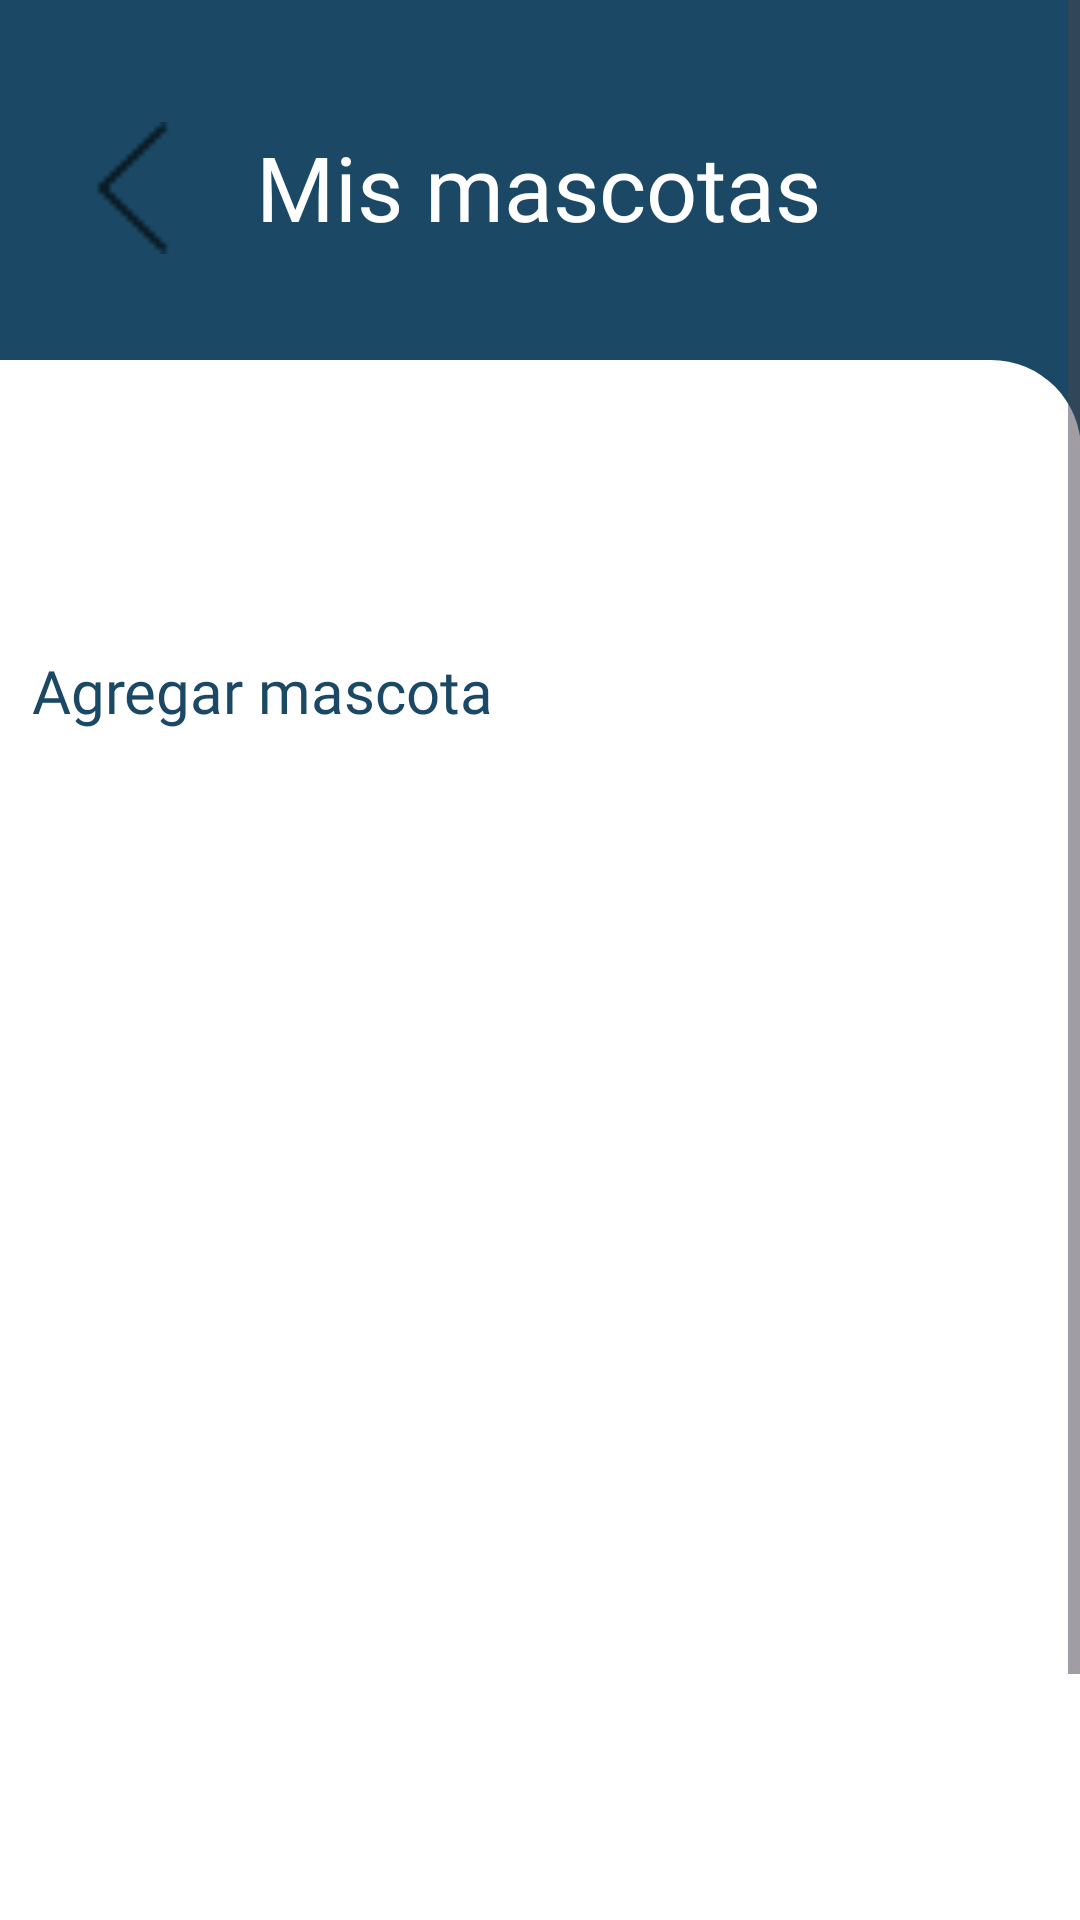

Where to tap for icons on this 1080x1920 app screen, as point (x, y):
flecha: point (132, 188)
